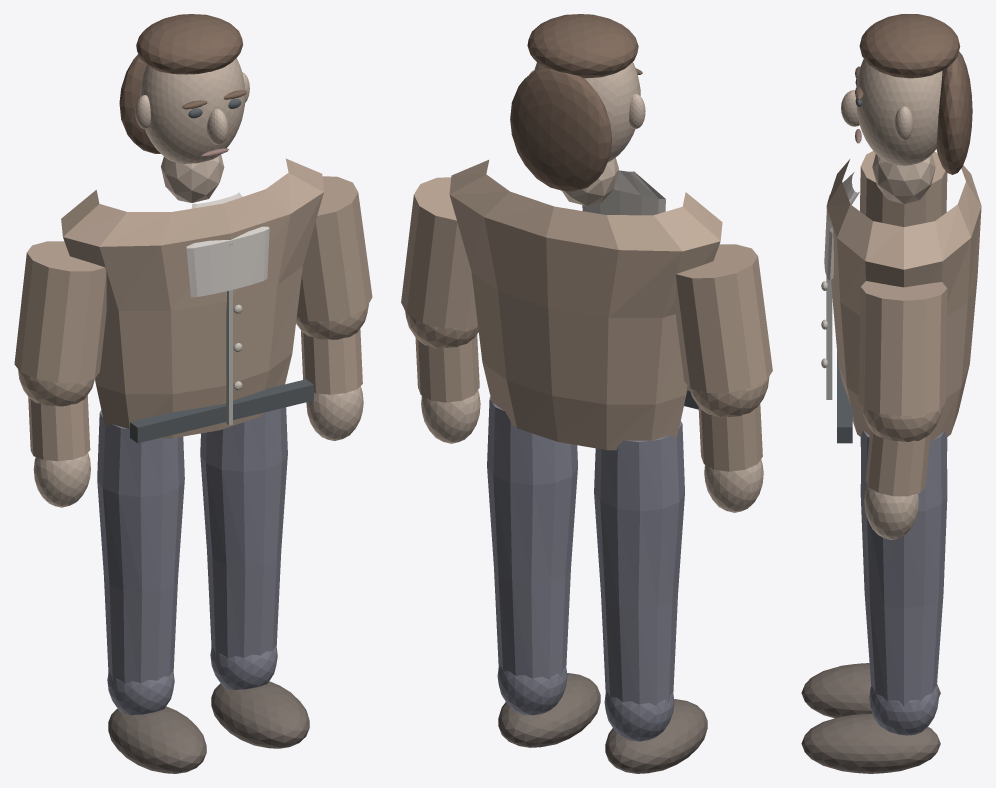
File: pedestrian-2.glb
The picture shows the model from 3 angles, left to right: view 1: azimuth 30°, elevation 25°; view 2: azimuth 150°, elevation 25°; view 3: azimuth 270°, elevation 25°; orthographic projection. The views are drawn at different scales.
Parts seen in each view (by area): view 1: torso, leg_L, leg_R, arm_L, head, arm_R; view 2: torso, leg_L, leg_R, arm_L, head, arm_R; view 3: leg_R, torso, arm_R, head, arm_L, leg_L.
Boxes of the visible parts, left/top/right/bottom form: torso: left=61, top=154, right=323, bottom=443; leg_L: left=97, top=410, right=206, bottom=773; leg_R: left=200, top=407, right=309, bottom=748; arm_L: left=14, top=241, right=106, bottom=507; head: left=119, top=14, right=249, bottom=163; arm_R: left=296, top=176, right=372, bottom=440; torso: left=449, top=157, right=722, bottom=450; leg_L: left=594, top=421, right=707, bottom=773; leg_R: left=487, top=397, right=600, bottom=747; arm_L: left=675, top=244, right=772, bottom=512; head: left=510, top=14, right=645, bottom=191; arm_R: left=401, top=177, right=480, bottom=443; leg_R: left=801, top=430, right=947, bottom=773; torso: left=821, top=154, right=981, bottom=443; arm_R: left=858, top=281, right=947, bottom=539; head: left=841, top=14, right=972, bottom=174; arm_L: left=860, top=151, right=947, bottom=226; leg_L: left=801, top=437, right=947, bottom=718.
Bounding box in the file's own units: 1.04 × 2.05 × 0.465.
